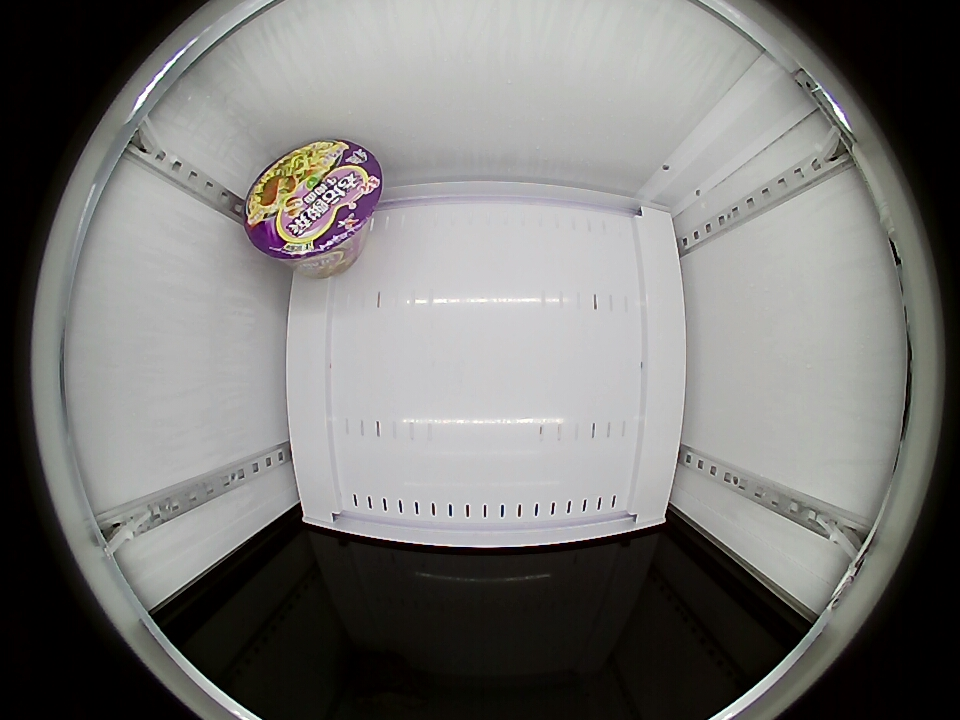laotansuancai: (244, 140, 383, 264)
